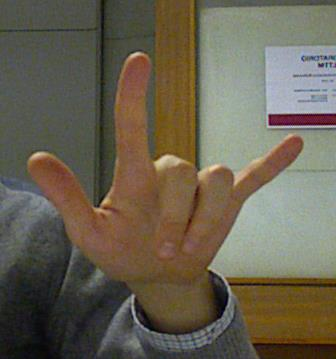back: (23, 50, 307, 296)
